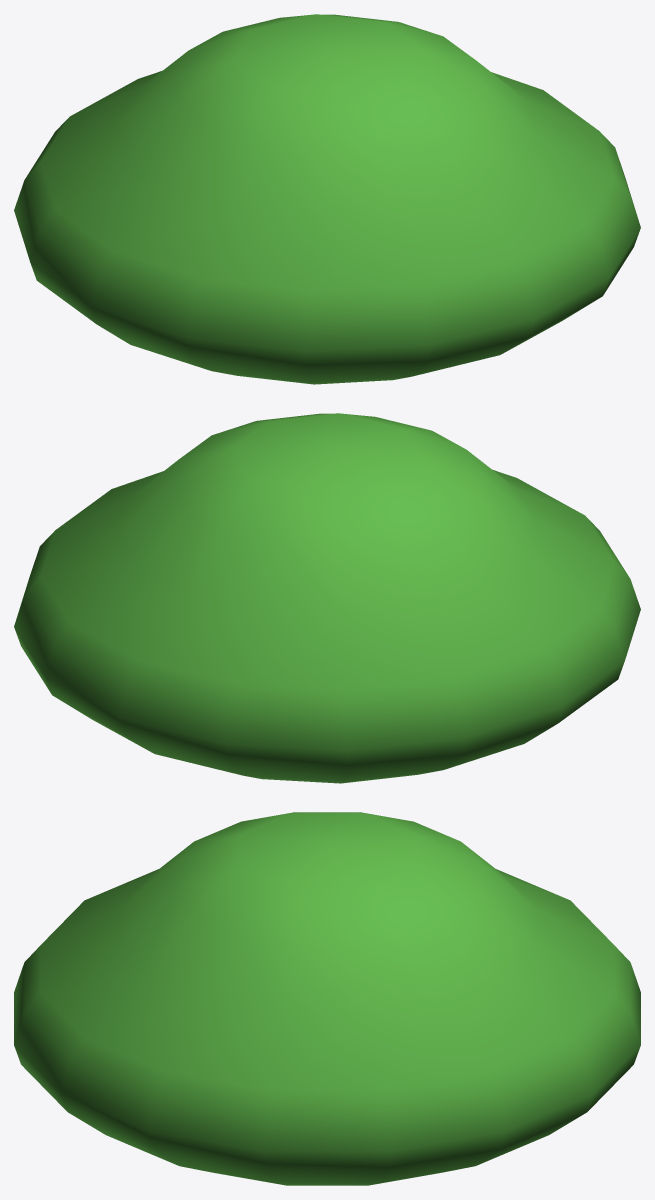
File: plant_bush_3.glb
3 views of the same model, one above another, from view 1: azimuth 30°, elevation 25°; view 2: azimuth 150°, elevation 25°; view 3: azimuth 270°, elevation 25° (orthographic).
Parts seen in each view (by area): view 1: plant_bush_3; view 2: plant_bush_3; view 3: plant_bush_3.
Boxes of the visible parts, x1,y1,x2,y2 form: plant_bush_3: (14, 14, 640, 384); plant_bush_3: (14, 413, 640, 783); plant_bush_3: (14, 812, 640, 1185).
Bounding box in the file's own units: 2.4 × 1.11 × 2.4.
